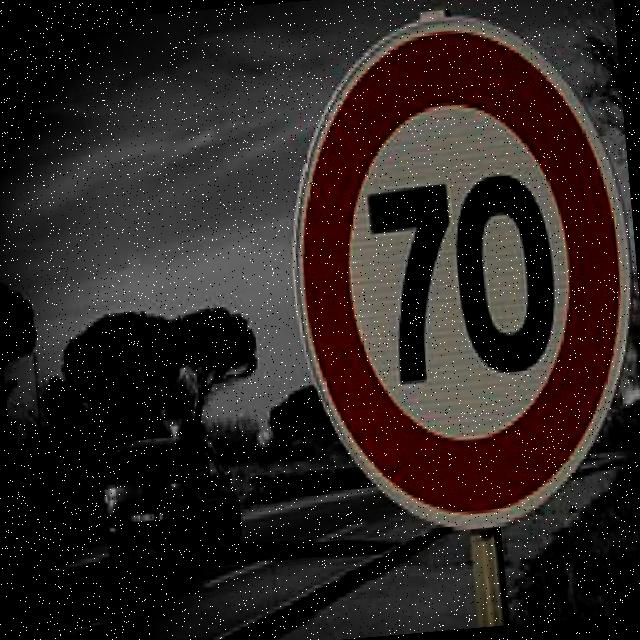Ograniczenie predkosci do 70: (321, 94, 607, 464)
